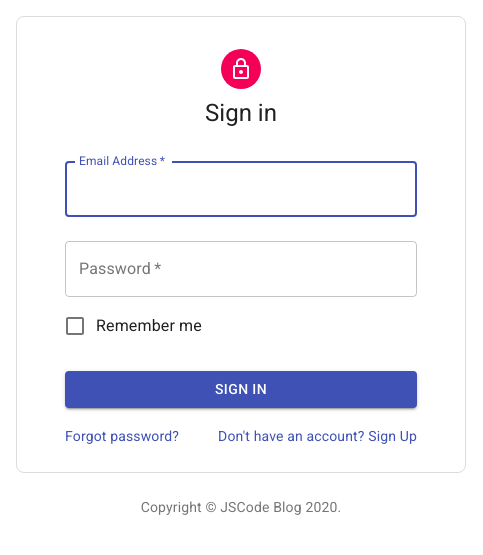
Scenario: Login component › form validation › invalid email error
Expected: the text "Invalid email" is not shown
Step 1. Type "test" into the field labelled "Email Address" → coordinates (241, 189), box [65,161,417,217]
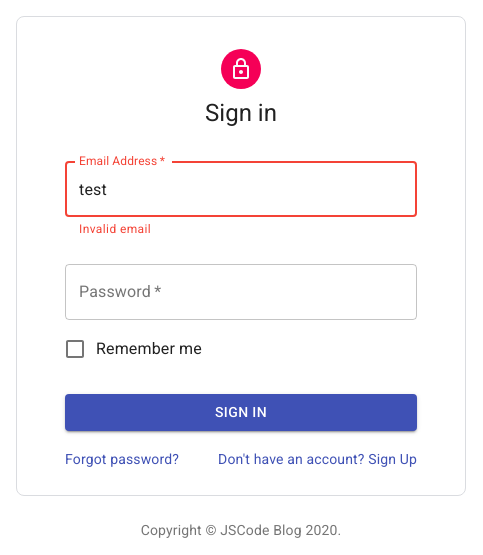
Expected: the text "Invalid email" is shown, [79,222,151,236]
Step 2. Type "test@sd.com" into the field labelled "Email Address" → coordinates (241, 189), box [65,161,417,217]
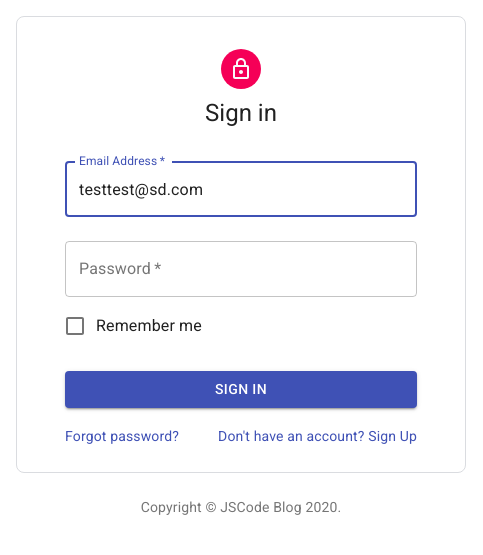
Expected: the text "Invalid email" is gone
